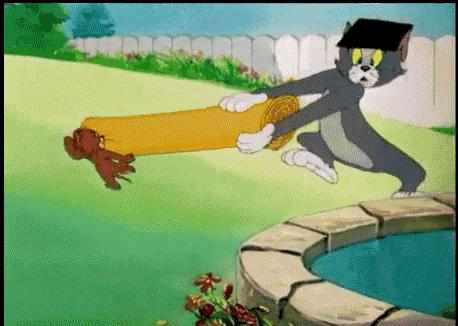jerry: (63, 127, 138, 191)
